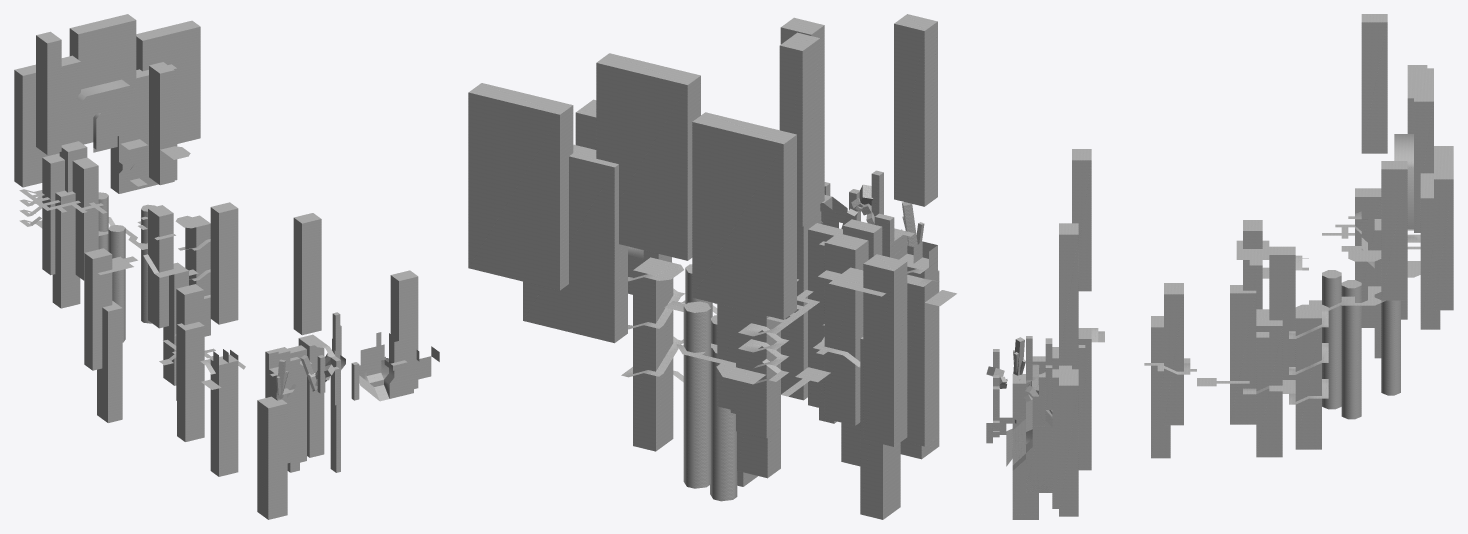
Rendered from level$OS.glb.
3 views of the same model, side by side, from view 1: azimuth 30°, elevation 25°; view 2: azimuth 150°, elevation 25°; view 3: azimuth 270°, elevation 25° (orthographic). The views are drawn at different scales.
Parts seen in each view (by area): view 1: file1; view 2: file1; view 3: file1.
Part boxes in pixels (box(x1,y1,x2,y2)): file1: box(14, 14, 439, 519); file1: box(468, 14, 956, 519); file1: box(986, 14, 1453, 519).
Size of the model in its own units: 102 by 152 by 142.
Materials: 1 (1 with a texture image).
